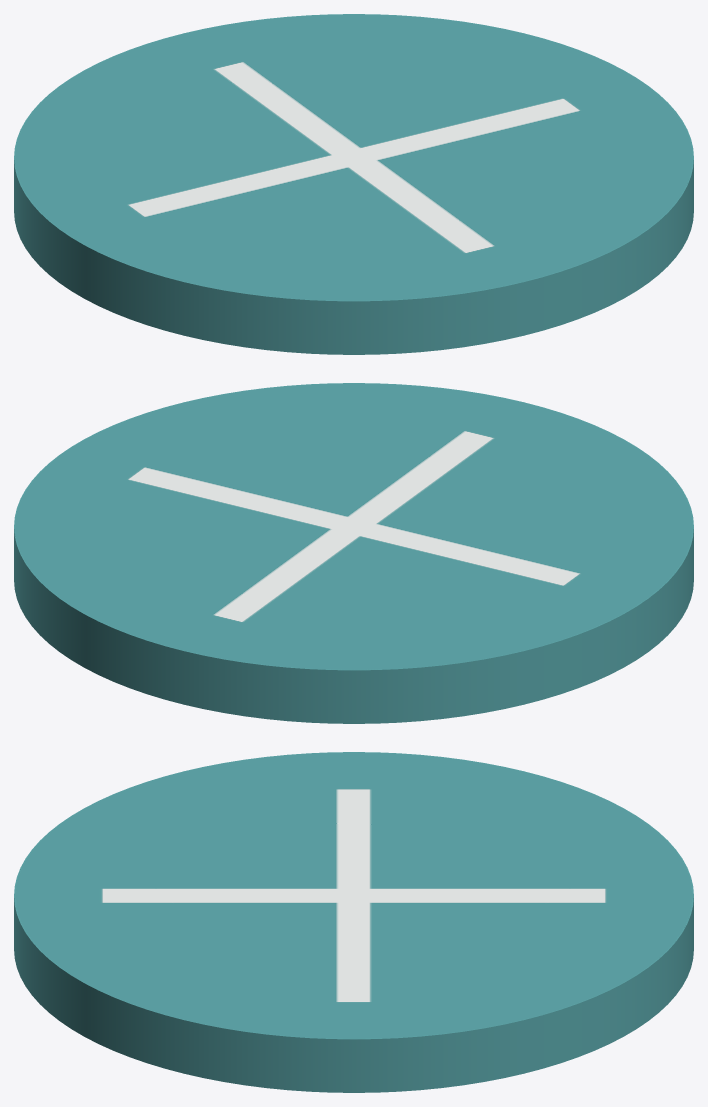
Rendered from back_circle.glb.
3 renders of one model, top to bottom at view 1: azimuth 30°, elevation 25°; view 2: azimuth 150°, elevation 25°; view 3: azimuth 270°, elevation 25°, orthographic.
Parts seen in each view (by area): view 1: back_circle; view 2: back_circle; view 3: back_circle.
Boxes of the visible parts, x1=… form: back_circle: x1=14, y1=14, x2=693, y2=354; back_circle: x1=14, y1=383, x2=693, y2=723; back_circle: x1=14, y1=752, x2=693, y2=1092.
Size of the model in its own units: 0.0276 by 0.0024 by 0.0276.
2 materials, 1 textured.
